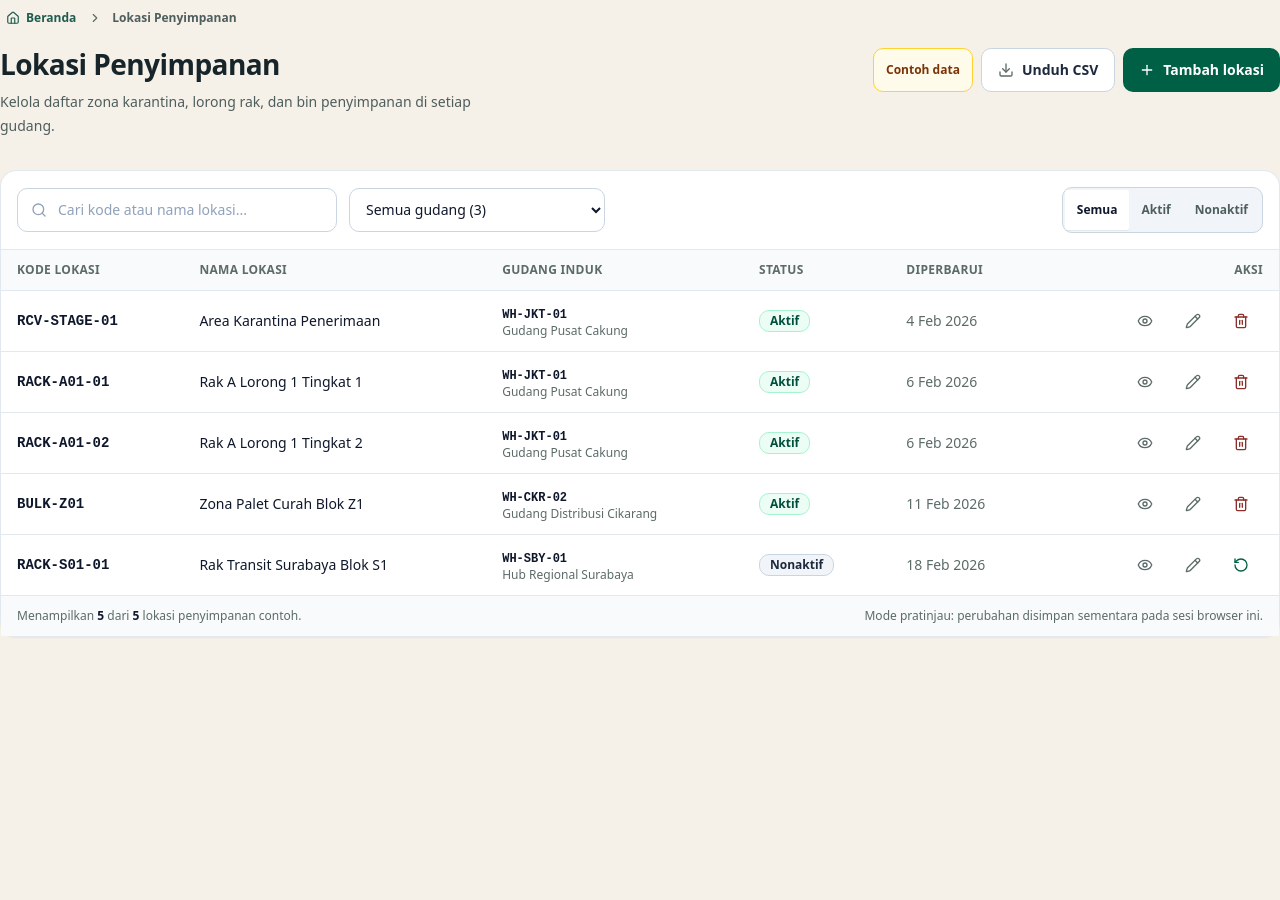
Test: StorageLocationsPage (Contoh data pratinjau Lokasi Penyimpanan) › merender contoh data lokasi penyimpanan, mendukung detail, tambah, dan filter
Expected: the text "Contoh data" is shown, x1=873 y1=48 x2=973 y2=92
Expected: the text "Area Karantina Penerimaan" is shown, x1=183 y1=290 x2=486 y2=351
Click the button named "Lihat detail lokasi Area Karantina Penerimaan". click: [1145, 321]
box: x1=1123 y1=299 x2=1167 y2=343
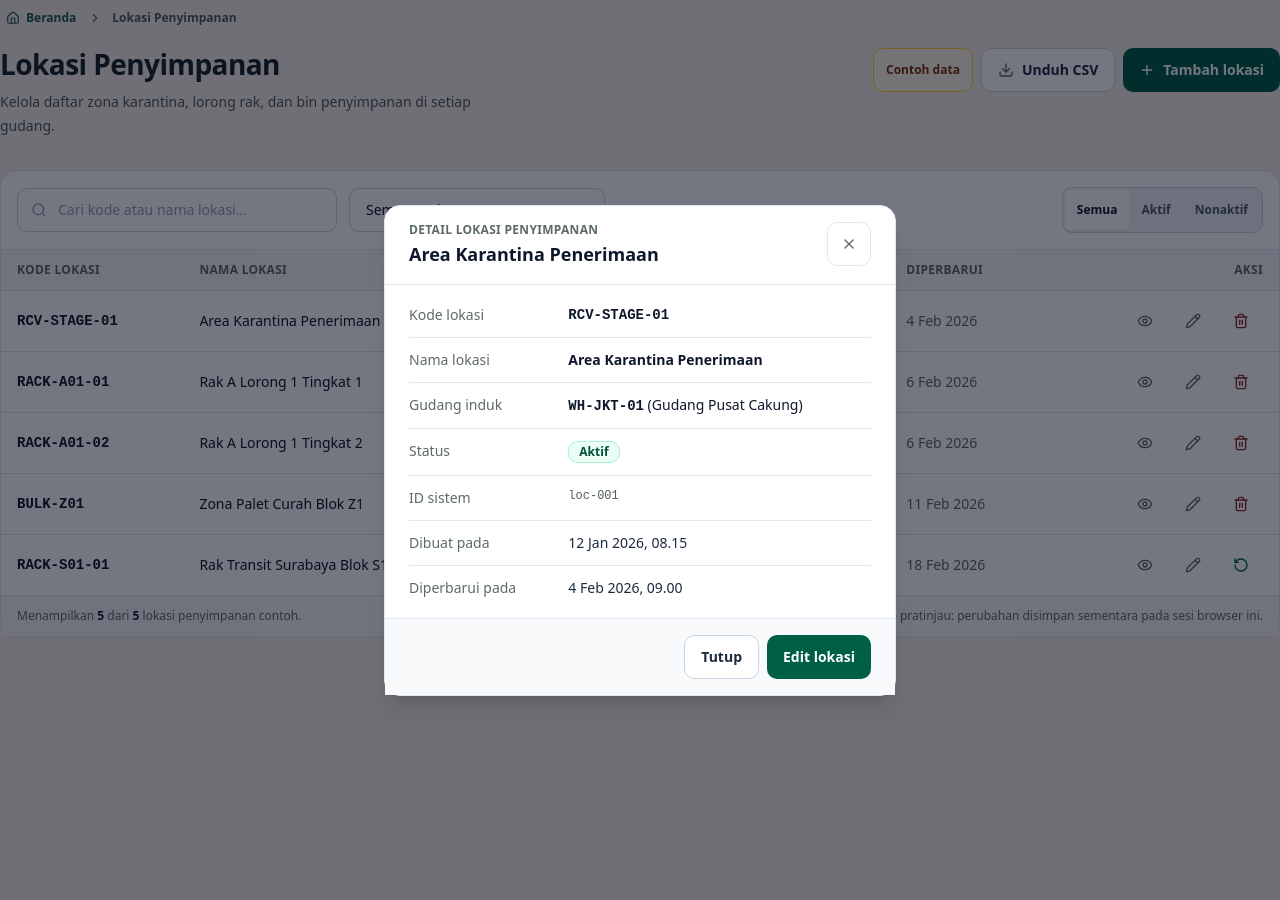
Now the dialog "Area Karantina Penerimaan" is shown
Click the button named "Tutup dialog detail lokasi penyimpanan". click: [849, 244]
box: x1=827 y1=222 x2=871 y2=266
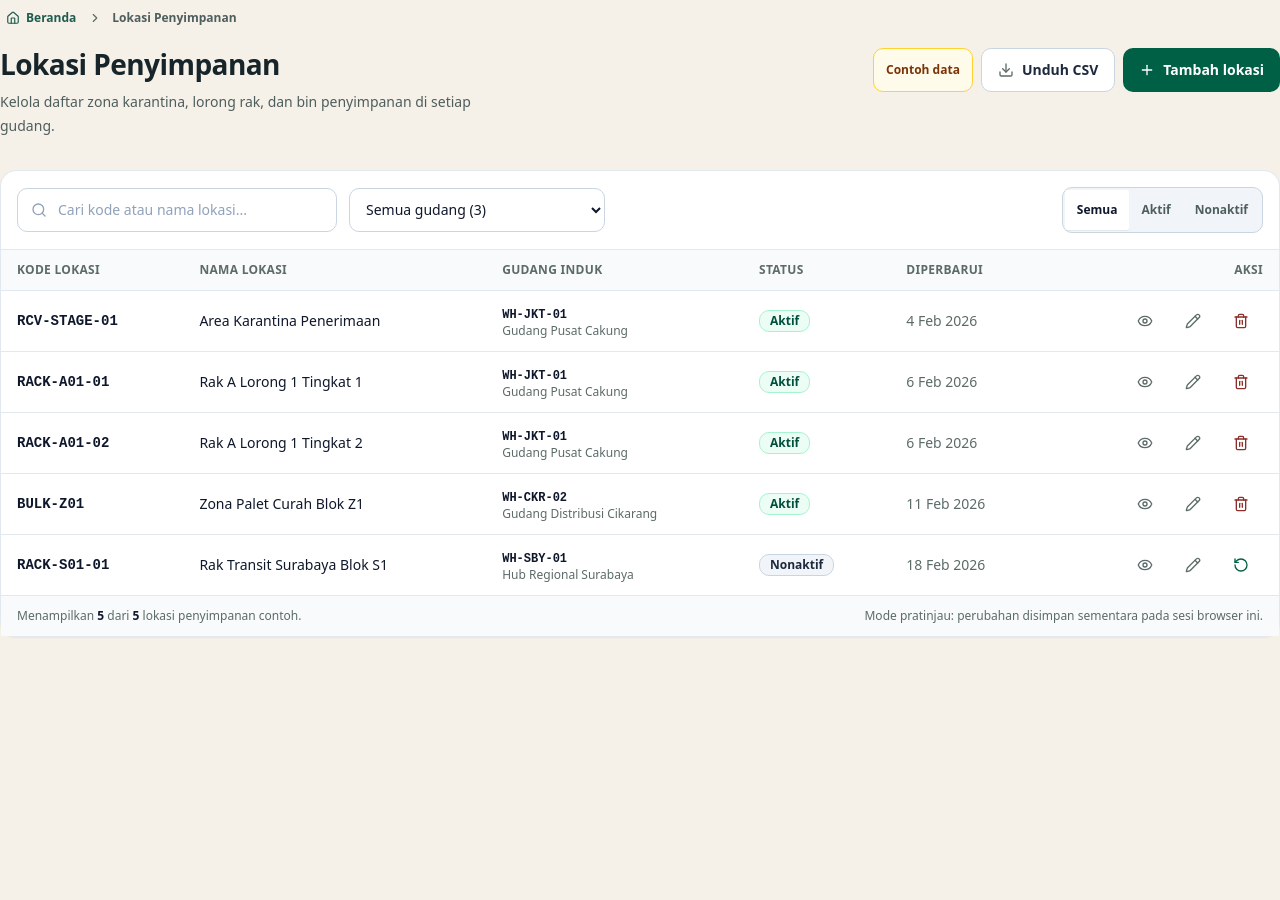
Click the button "Tambah lokasi". click: [1202, 70]
box: x1=1123 y1=48 x2=1279 y2=92
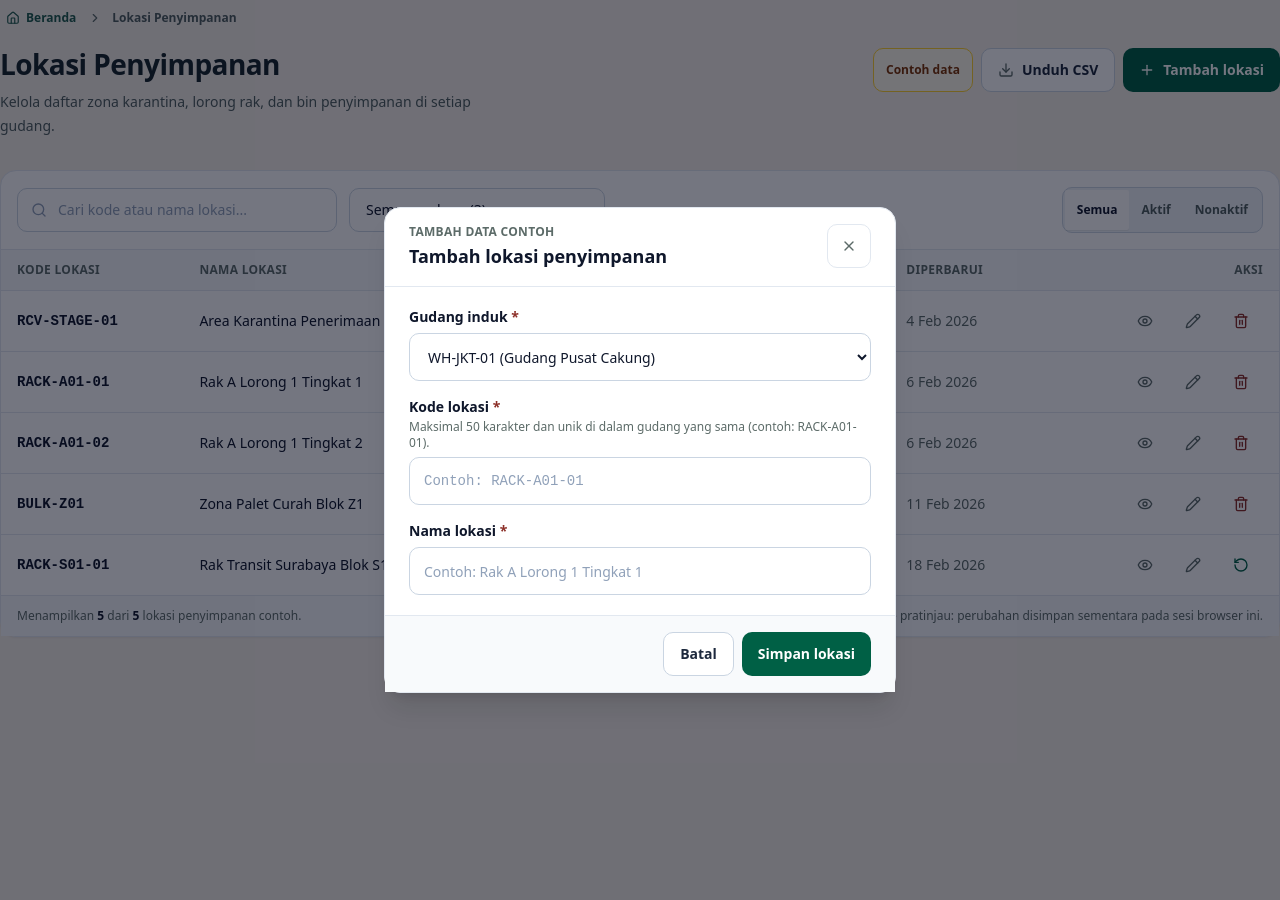
Type "rack-b02-01" into the field labelled "Kode lokasi *". click: [640, 481]
box: x1=409 y1=457 x2=871 y2=505
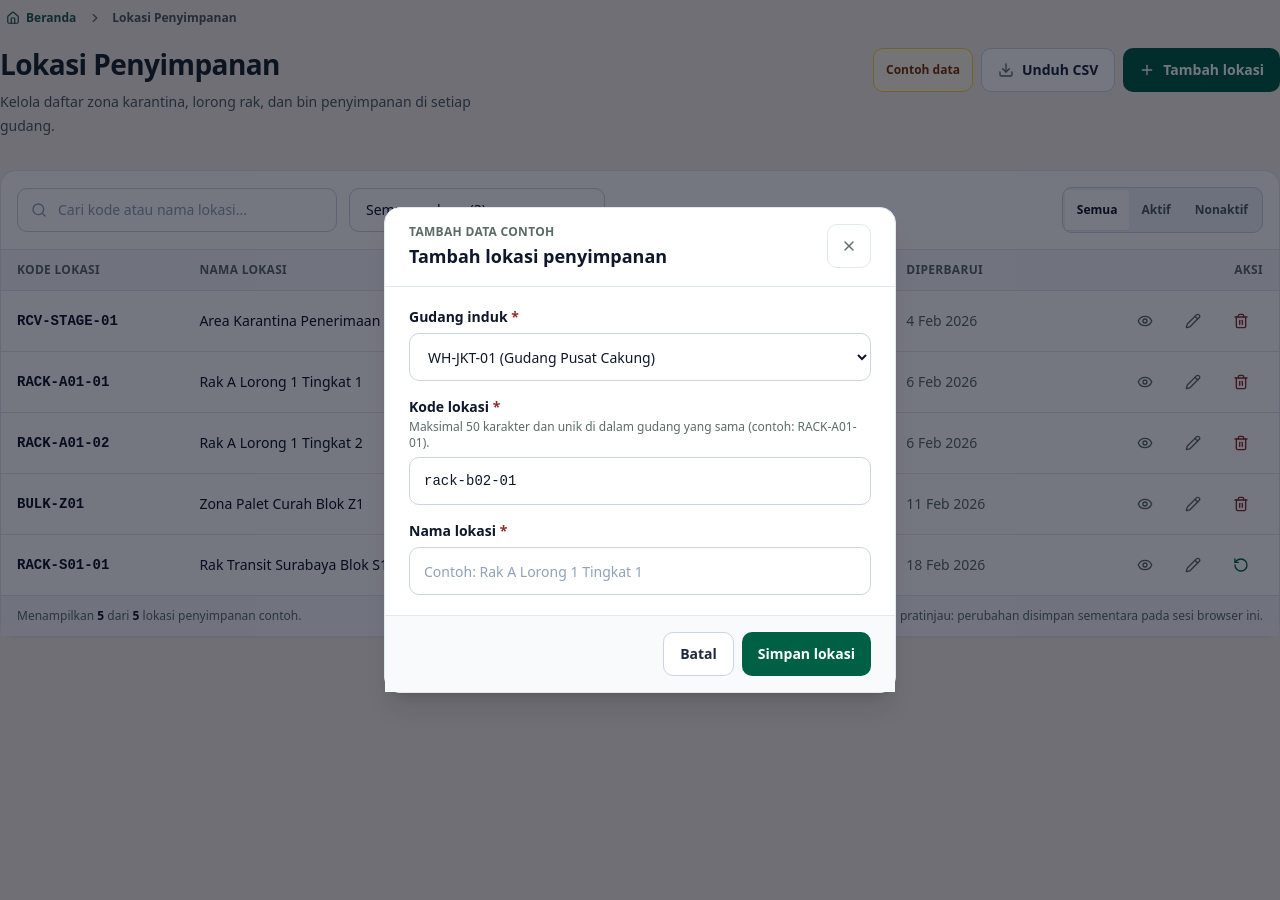
Type "Rak B Lorong 2 Tingkat 1" into the field labelled "Nama lokasi *". click: [640, 571]
box: x1=409 y1=547 x2=871 y2=595
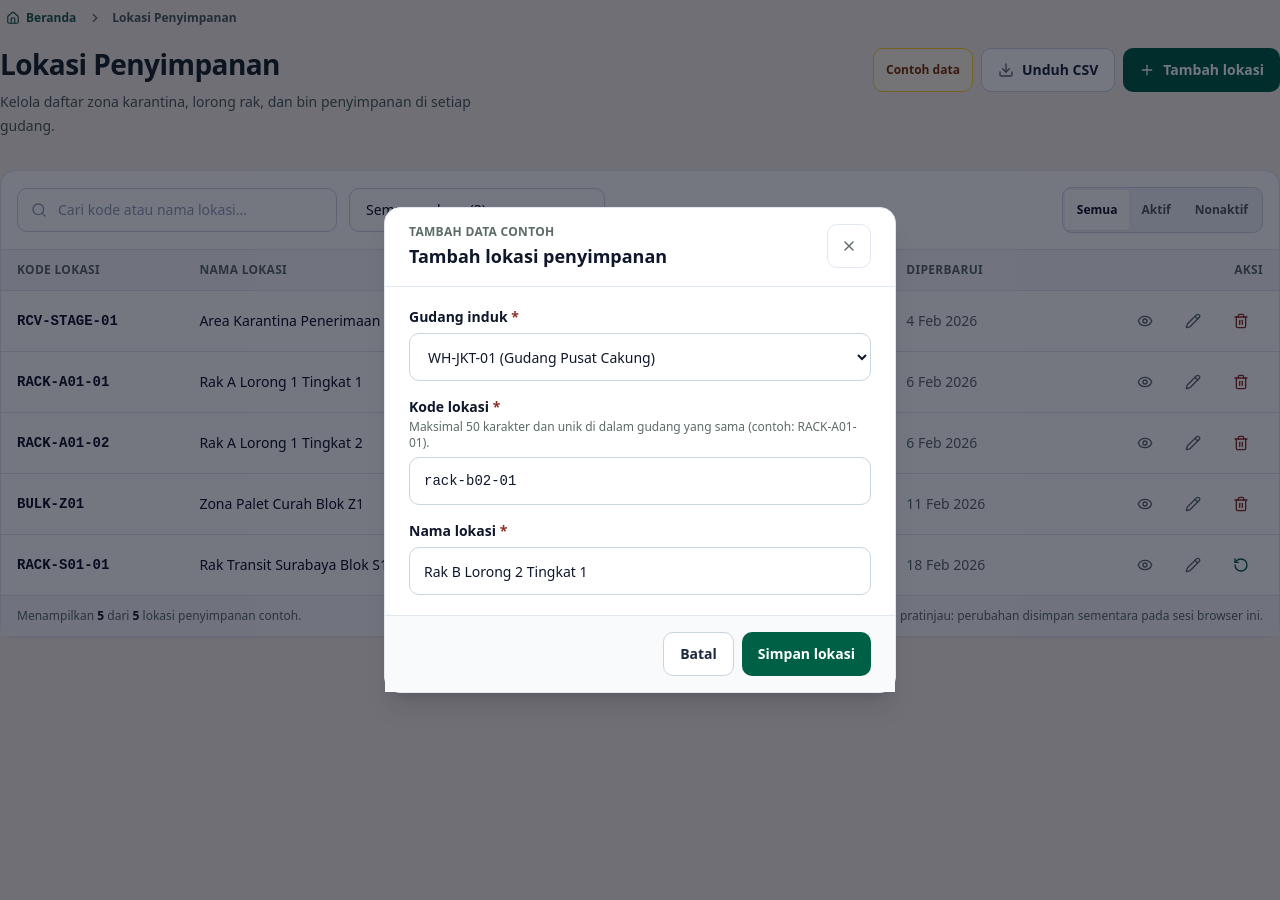
Click the button "Simpan lokasi". click: [806, 654]
box: x1=742 y1=632 x2=871 y2=676
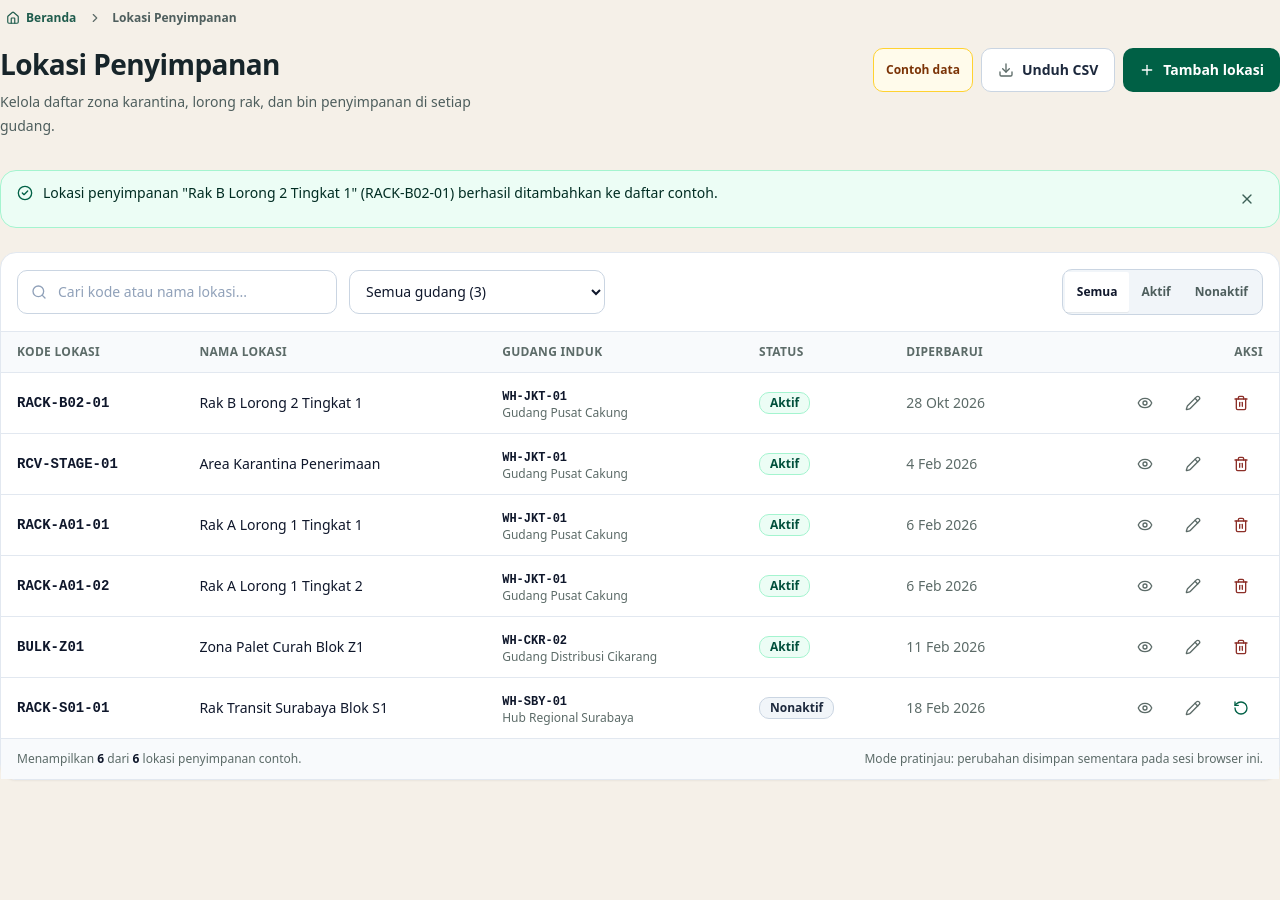
Now the text "RACK-B02-01" is shown, box x1=1 y1=372 x2=183 y2=433
Now the text "Rak B Lorong 2 Tingkat 1" is shown, box x1=183 y1=372 x2=486 y2=433
